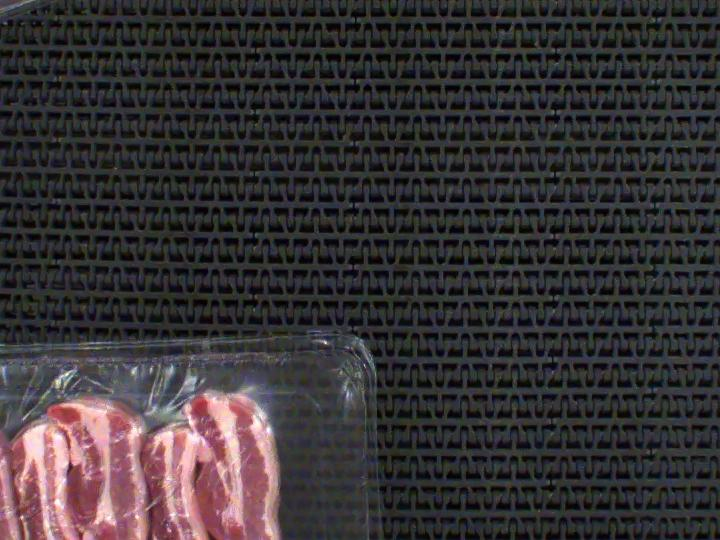unsealed: (0, 345, 364, 540)
